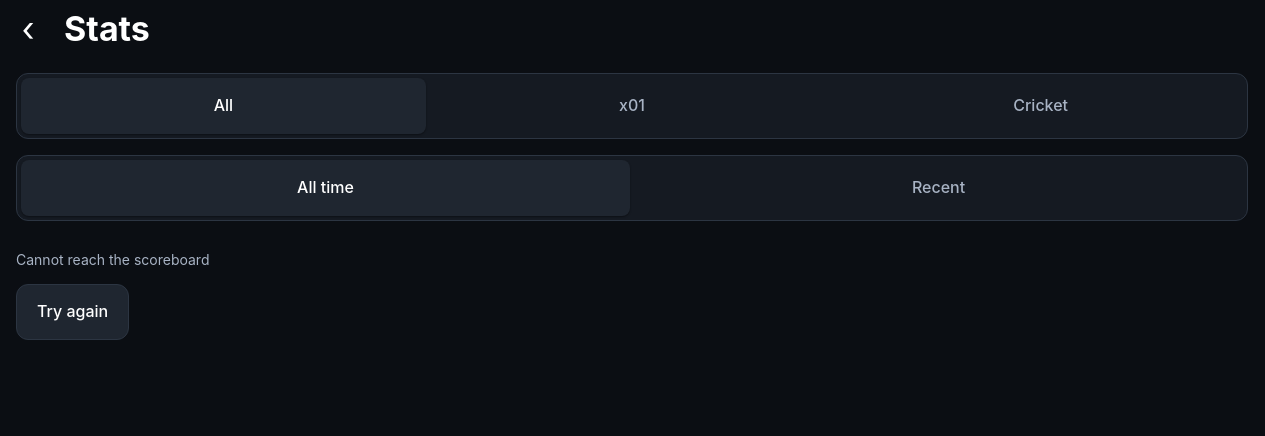
Test: the empty states › recovers when the Pi comes back
Expected: the message "Cannot reach the scoreboard Try again" is shown, [16,251,210,340]
Click the button "Try again": (73, 312) [16,284,129,340]
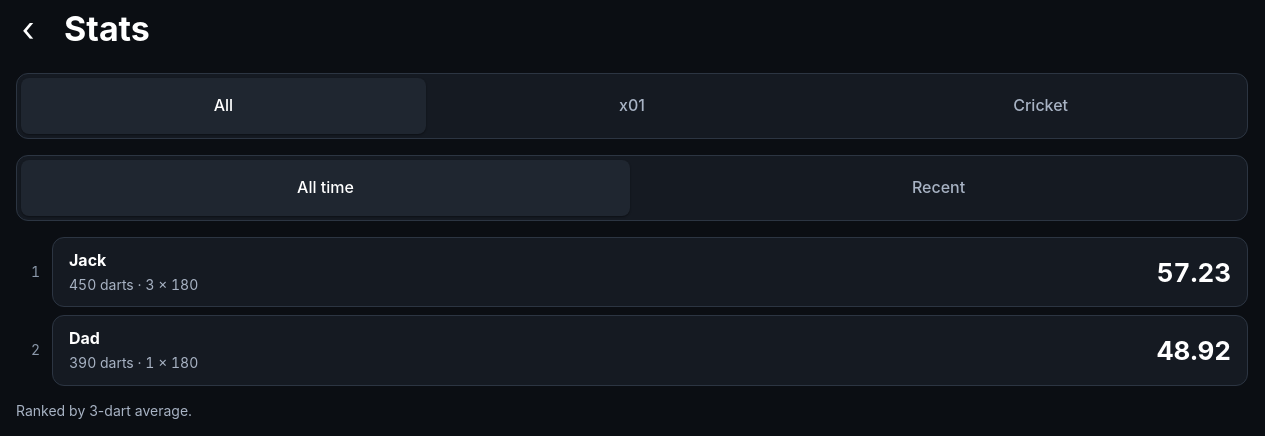
Result: the text "Jack" is shown at [69,250,106,270]
Result: the message "Cannot reach the scoreboard Try again" is gone
